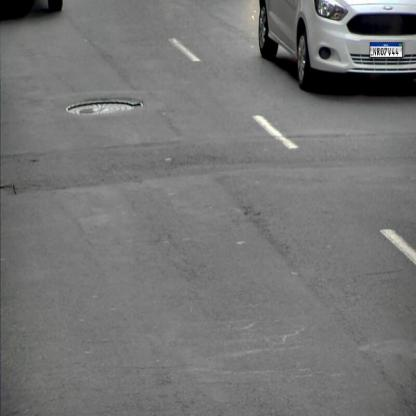PlacaM: (370, 42, 402, 58)
